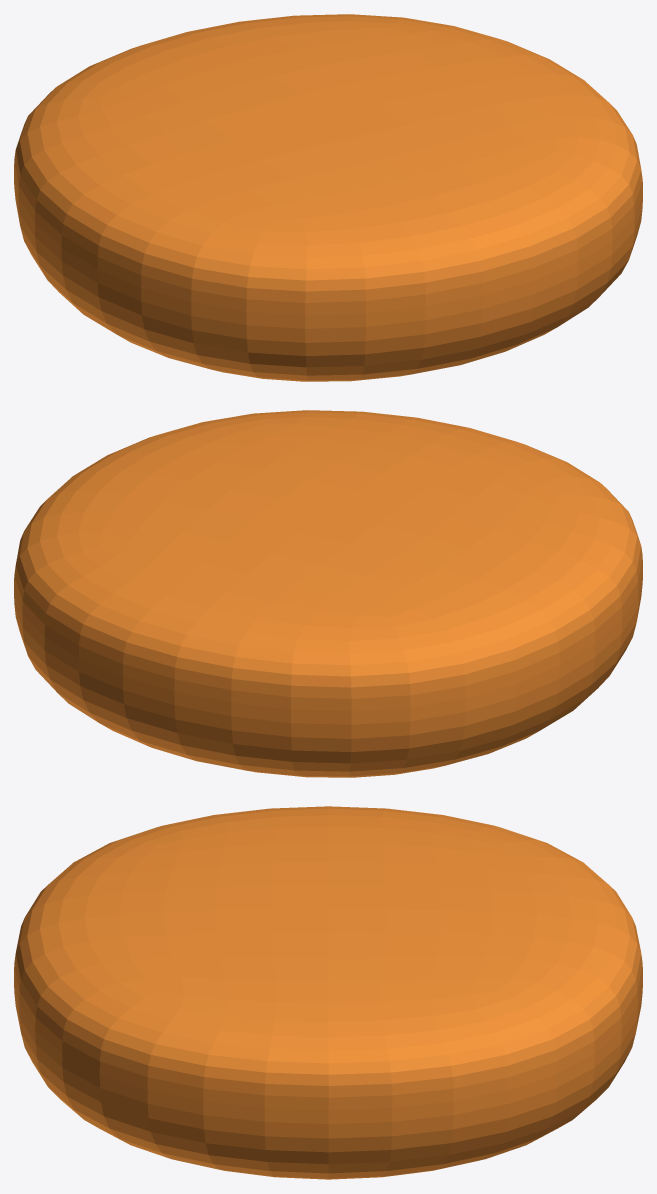
The model's file is panInferior.glb.
3 renders of one model, top to bottom at view 1: azimuth 30°, elevation 25°; view 2: azimuth 150°, elevation 25°; view 3: azimuth 270°, elevation 25°, orthographic. The views are drawn at different scales.
Visible parts, largest first — view 1: Cube.001; view 2: Cube.001; view 3: Cube.001.
Part boxes in pixels (x1,y1,x2,y2): Cube.001: (14, 14, 642, 381); Cube.001: (14, 410, 642, 777); Cube.001: (14, 806, 642, 1179).
Bounding box in the file's own units: 2.18 × 0.7487 × 2.18.
